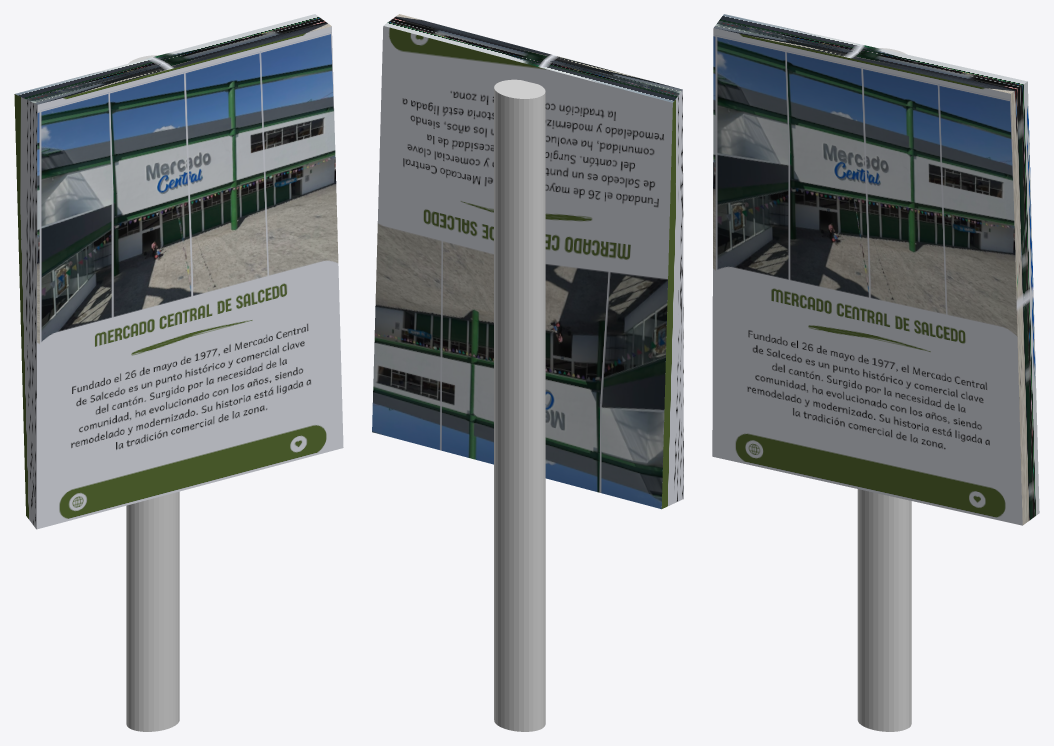
File: Cartel_Mercado.glb
3 renders of one model, left to right at view 1: azimuth 30°, elevation 25°; view 2: azimuth 150°, elevation 25°; view 3: azimuth 330°, elevation 25°, orthographic. The views are drawn at different scales.
Visible parts, largest first — view 1: Cubo, Cilindro; view 2: Cubo, Cilindro; view 3: Cubo, Cilindro.
Boxes of the visible parts, box(x1,y1,x2,y2) form: Cubo: box(14, 14, 343, 529); Cilindro: box(126, 55, 179, 731); Cubo: box(372, 14, 683, 509); Cilindro: box(494, 79, 545, 731); Cubo: box(712, 14, 1039, 525); Cilindro: box(857, 48, 911, 731).
Bounding box in the file's own units: 0.8639 × 1.79 × 0.1819.
1 material, 1 textured.
